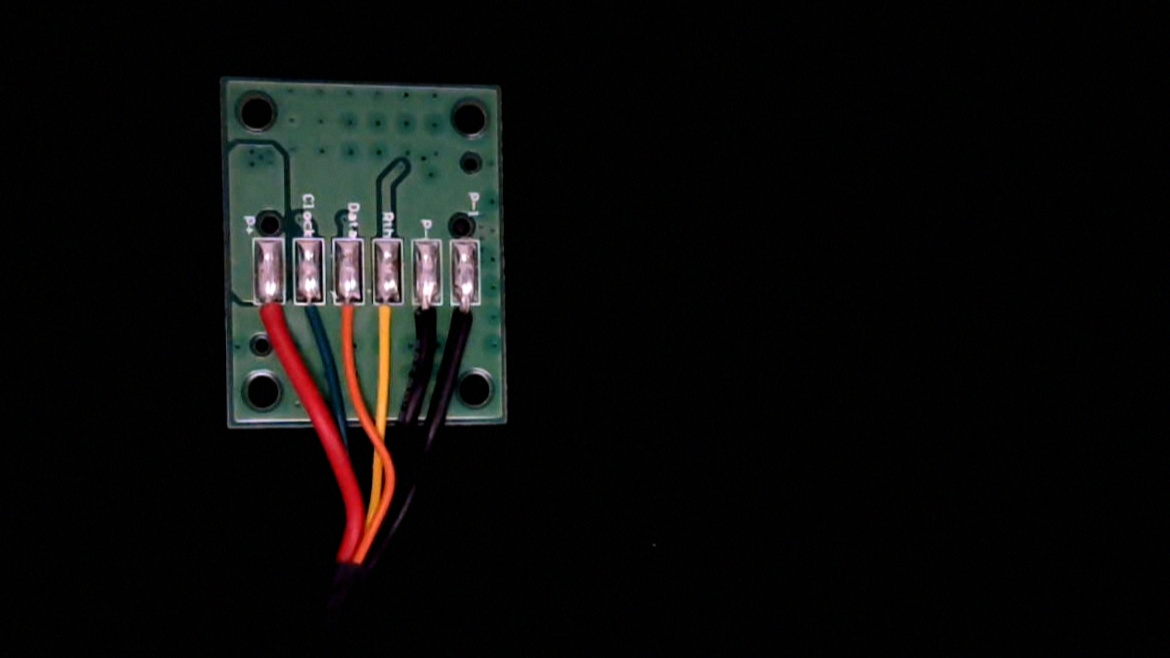Black: (410, 285, 444, 361)
Black1: (451, 283, 484, 353)
Green: (292, 279, 327, 343)
Orange: (333, 281, 365, 356)
Red: (254, 282, 289, 355)
Yellow: (374, 283, 408, 360)
